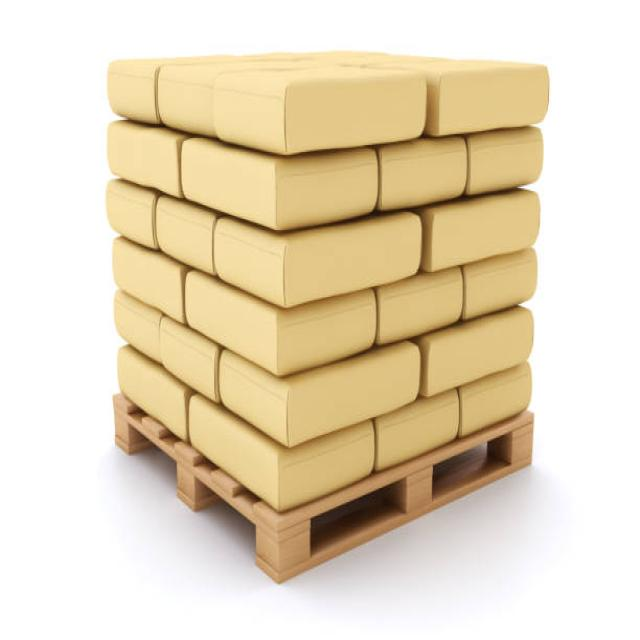Wooden-Pallets: (108, 403, 529, 584)
